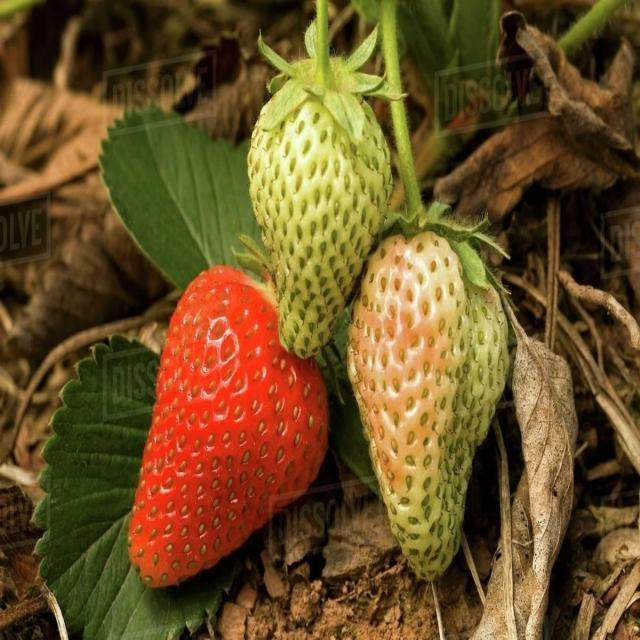Strawberry: (130, 260, 329, 588), (348, 215, 510, 578), (250, 59, 392, 352), (352, 229, 470, 495)
